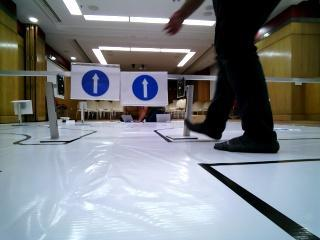straight: (124, 72, 169, 106), (75, 64, 117, 100)
